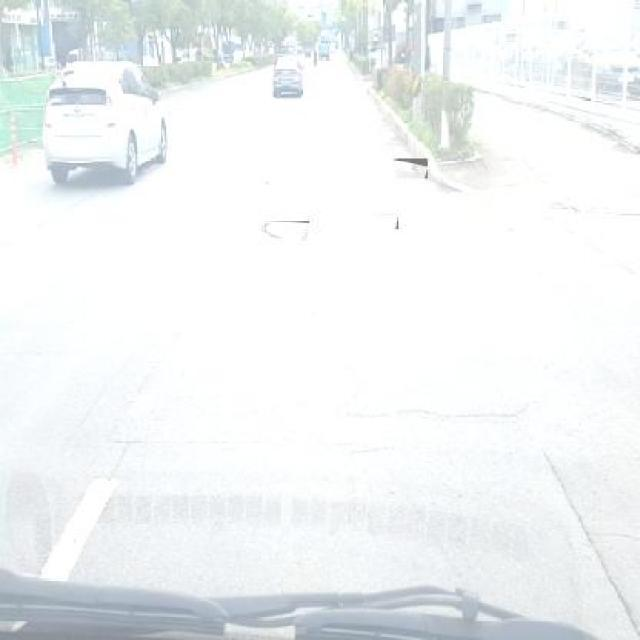Manhole: (258, 220, 310, 240), (390, 158, 428, 178), (359, 214, 399, 230)
